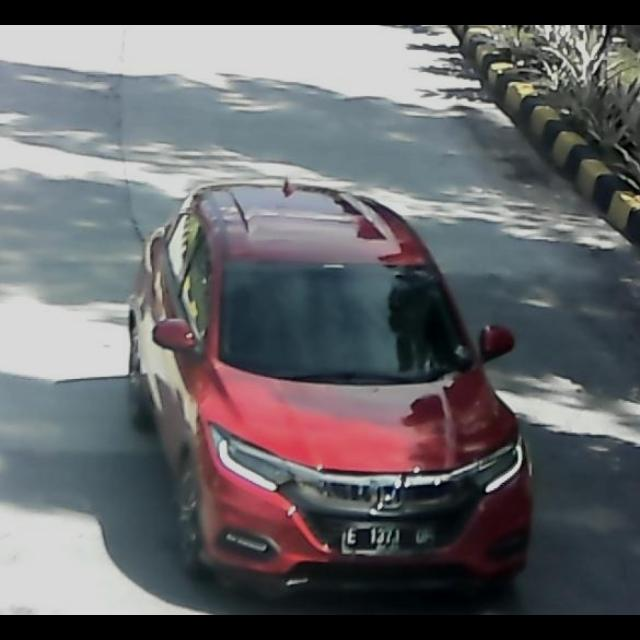plate: (341, 524, 439, 556)
